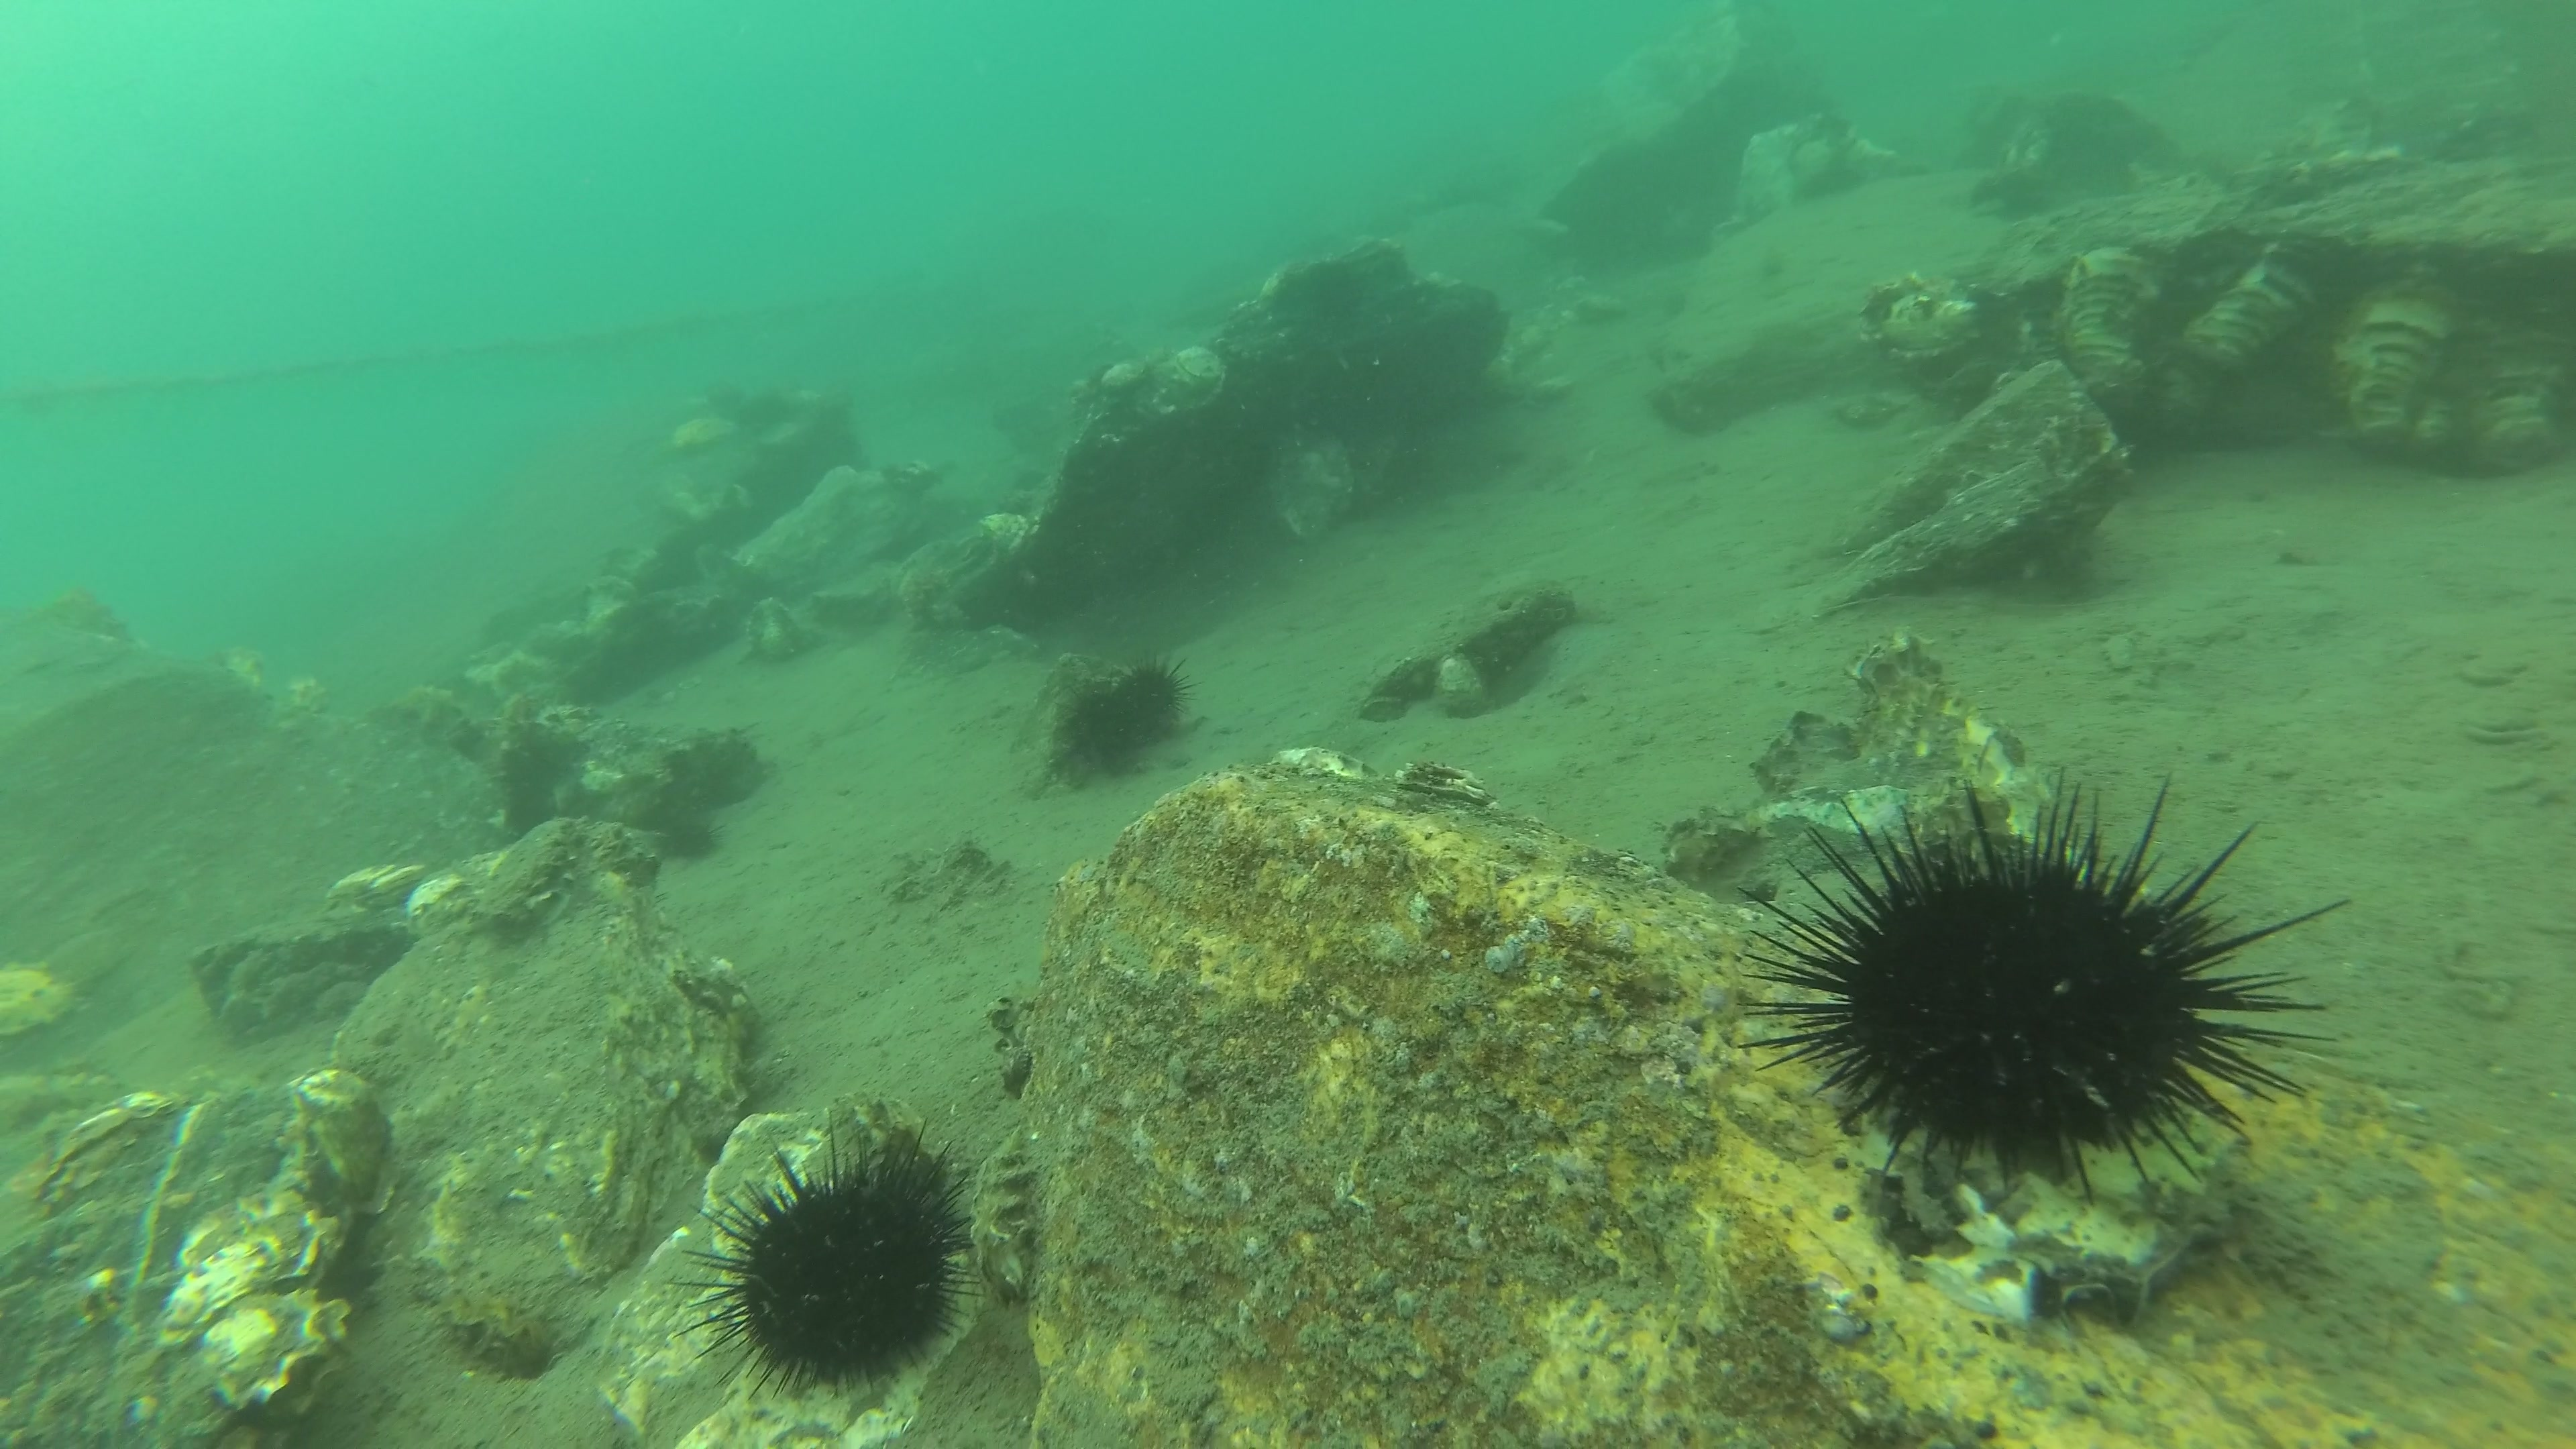echinus: (1734, 763, 2358, 1207), (665, 1108, 989, 1401), (1053, 669, 1141, 771), (1123, 649, 1207, 741), (1302, 255, 1369, 324), (667, 816, 727, 862)
